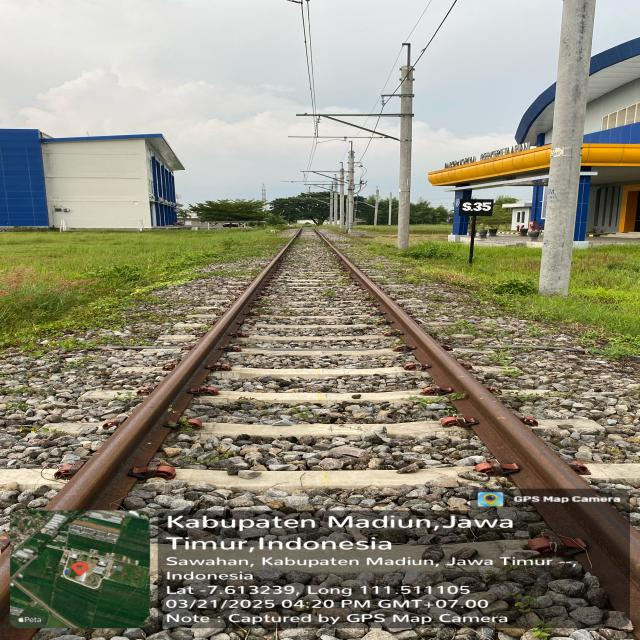rail-detection: (315, 229, 640, 619), (48, 231, 300, 510)
